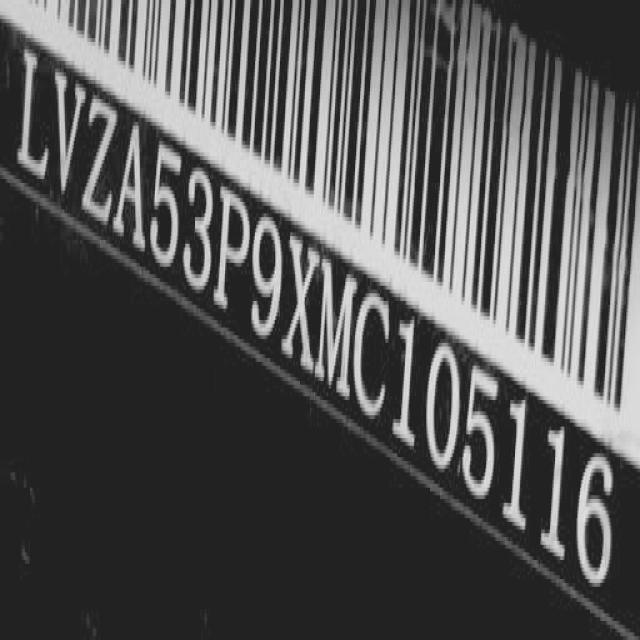0: (424, 328, 466, 480)
1: (540, 409, 579, 570), (504, 380, 542, 540), (395, 299, 427, 457)
3: (184, 156, 224, 306)
5: (461, 351, 504, 513), (148, 132, 192, 277)
6: (578, 448, 613, 588)
9: (250, 202, 290, 352)
A: (112, 104, 156, 258)
C: (353, 272, 396, 426)
L: (16, 38, 56, 194)
M: (314, 247, 360, 399)
P: (213, 189, 252, 320)
V: (50, 64, 90, 211)
X: (285, 224, 326, 380)
Z: (84, 90, 123, 231)
